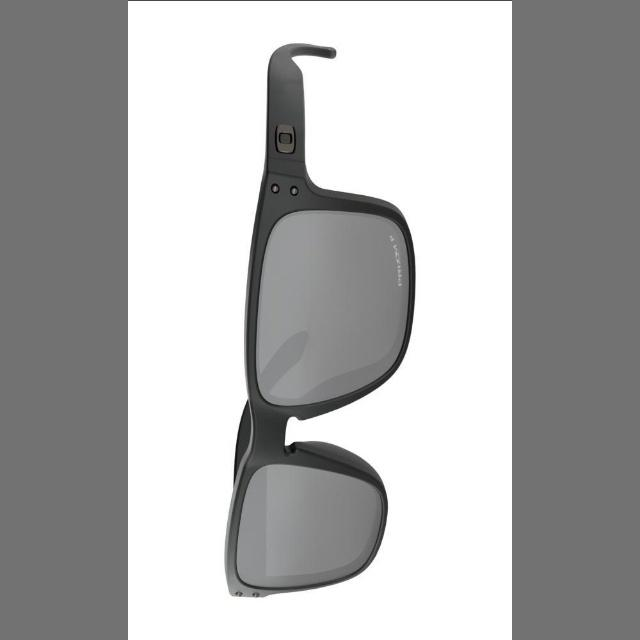Sunglasses: (183, 34, 453, 608)
